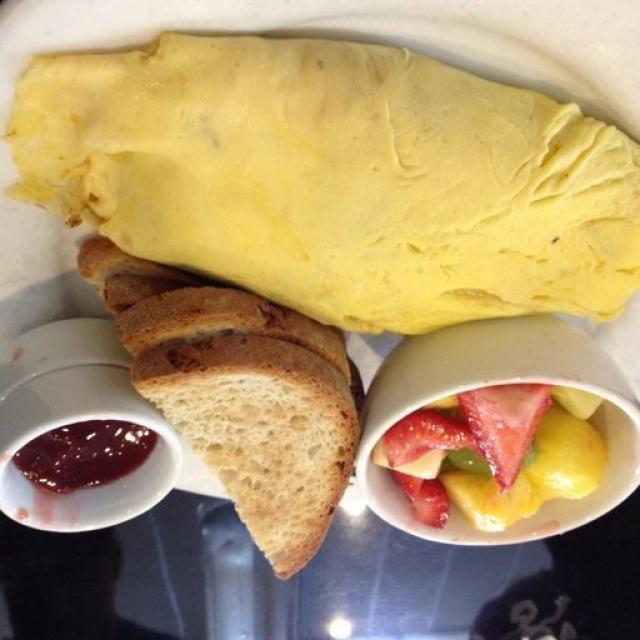telur_ayam_dadar: (4, 34, 638, 340)
